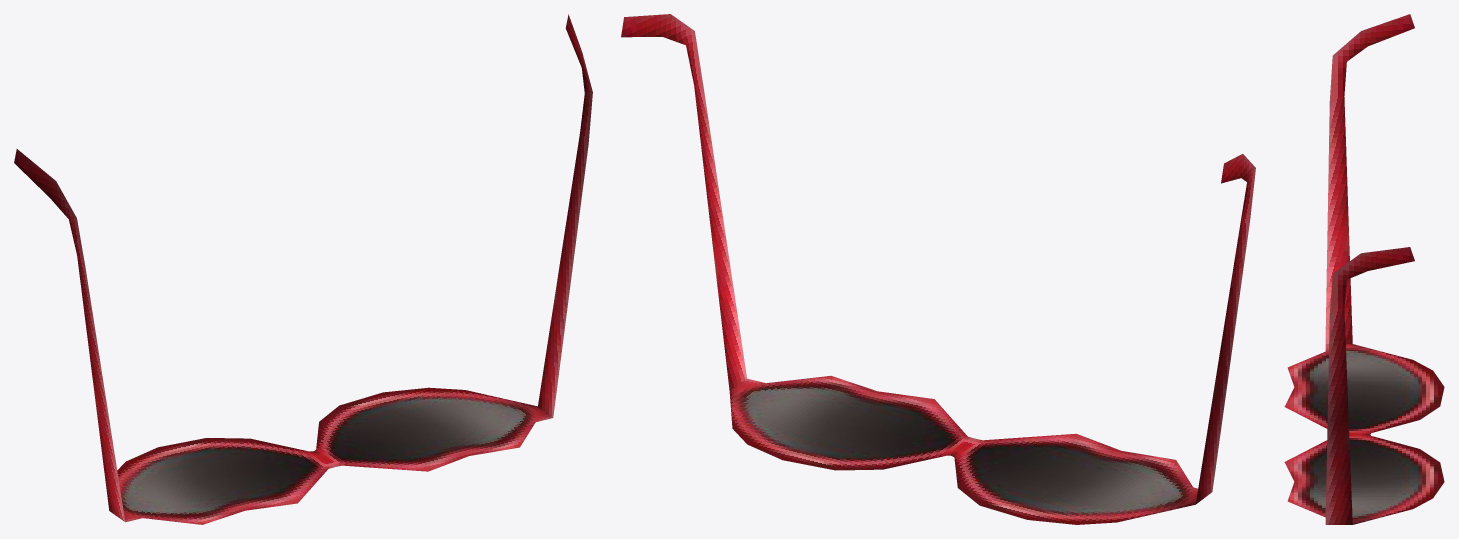
File: tt_m_chr_avt_acc_msk_mouthGlasses.glb
3 renders of one model, left to right at view 1: azimuth 30°, elevation 25°; view 2: azimuth 150°, elevation 25°; view 3: azimuth 270°, elevation 25°, orthographic. The views are drawn at different scales.
Parts seen in each view (by area): view 1: smoochGlasses; view 2: smoochGlasses; view 3: smoochGlasses.
Boxes of the visible parts, x1,y1,x2,y2 form: smoochGlasses: (14, 14, 592, 524); smoochGlasses: (621, 14, 1255, 524); smoochGlasses: (1284, 14, 1444, 524).
Bounding box in the file's own units: 4.25 × 2.6 × 1.24.
1 material, 1 textured.
